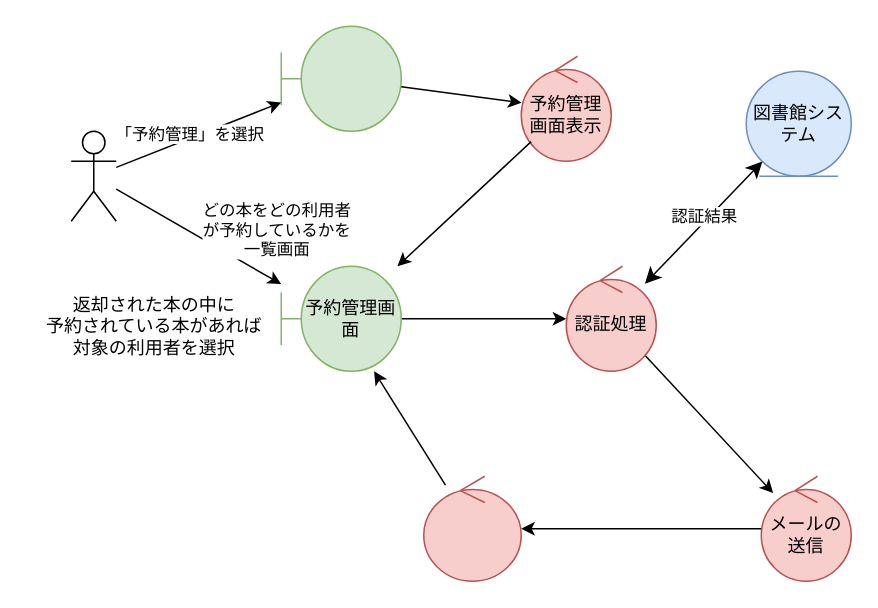
Image size: 878x608. Some labels were removed from this diagram. The shapes that lost their labels are listed below. From the top down, each one's centre as x and y in pixels, then its label:
[340,78]: メニュー画面
[93,175]: 事務職員
[471,528]: 送信完了 表示
